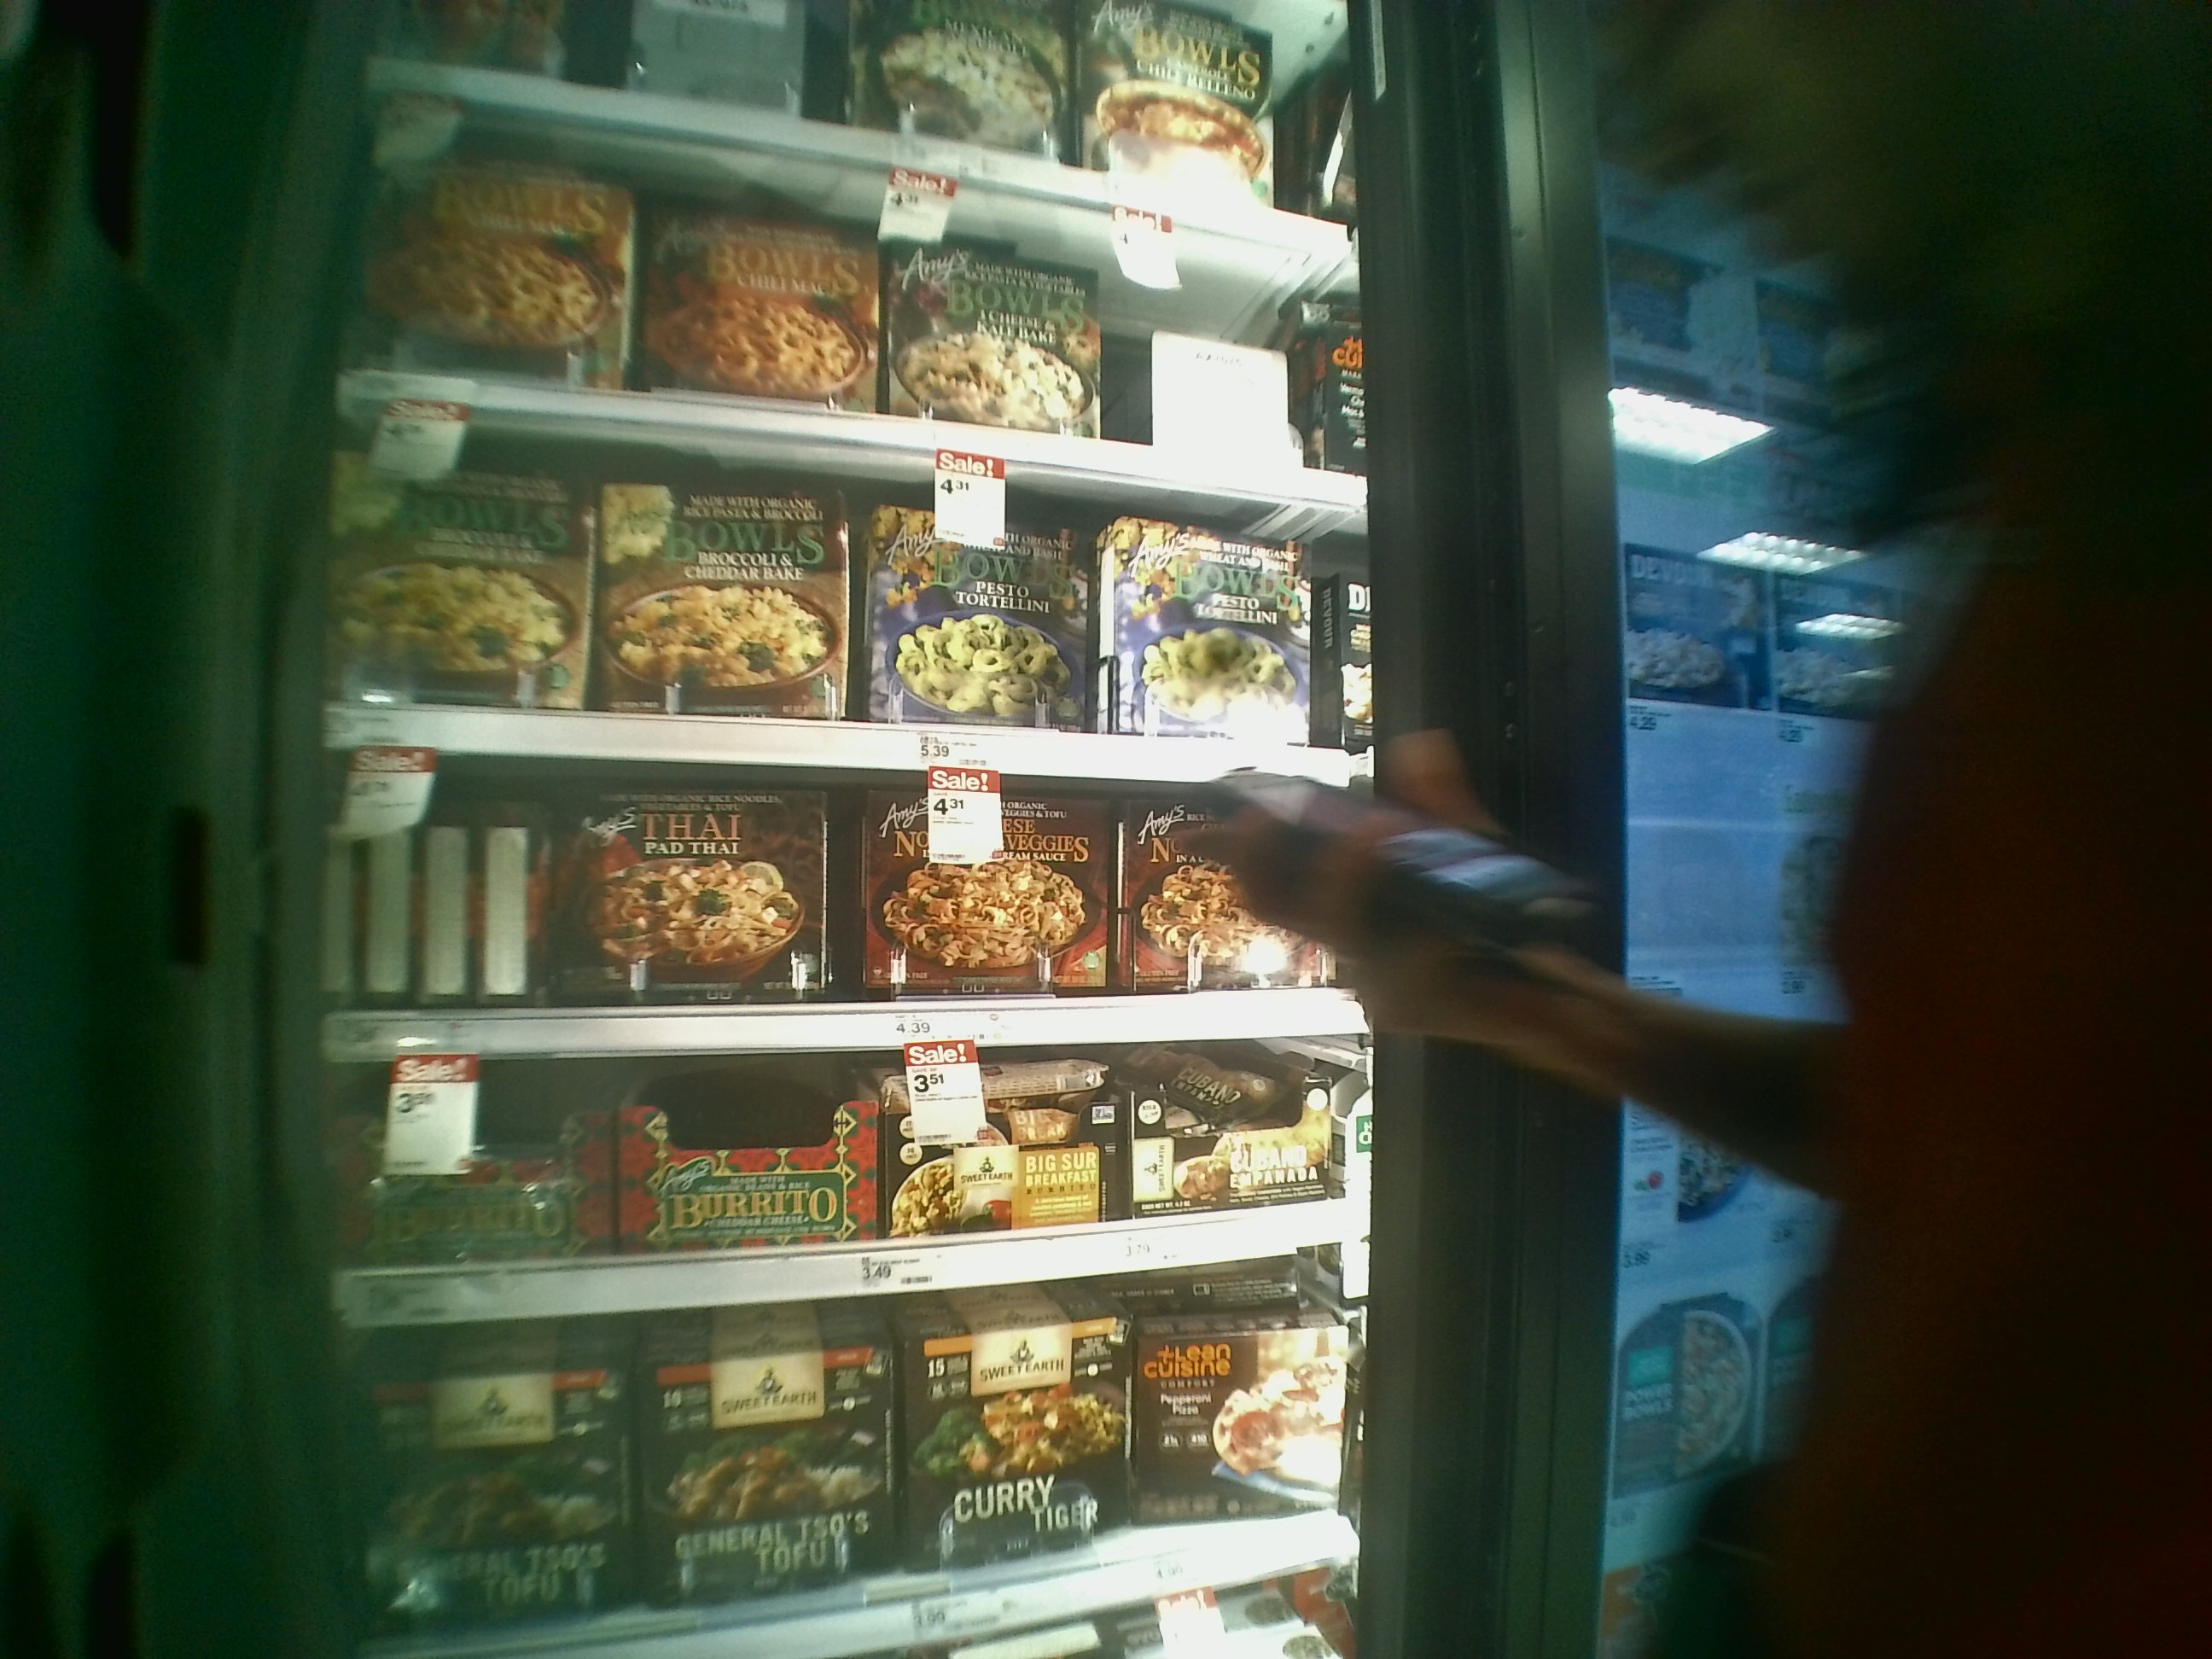frozen-food-shelf: (315, 410, 1400, 788), (310, 788, 1411, 1060), (308, 1060, 1379, 1333)
